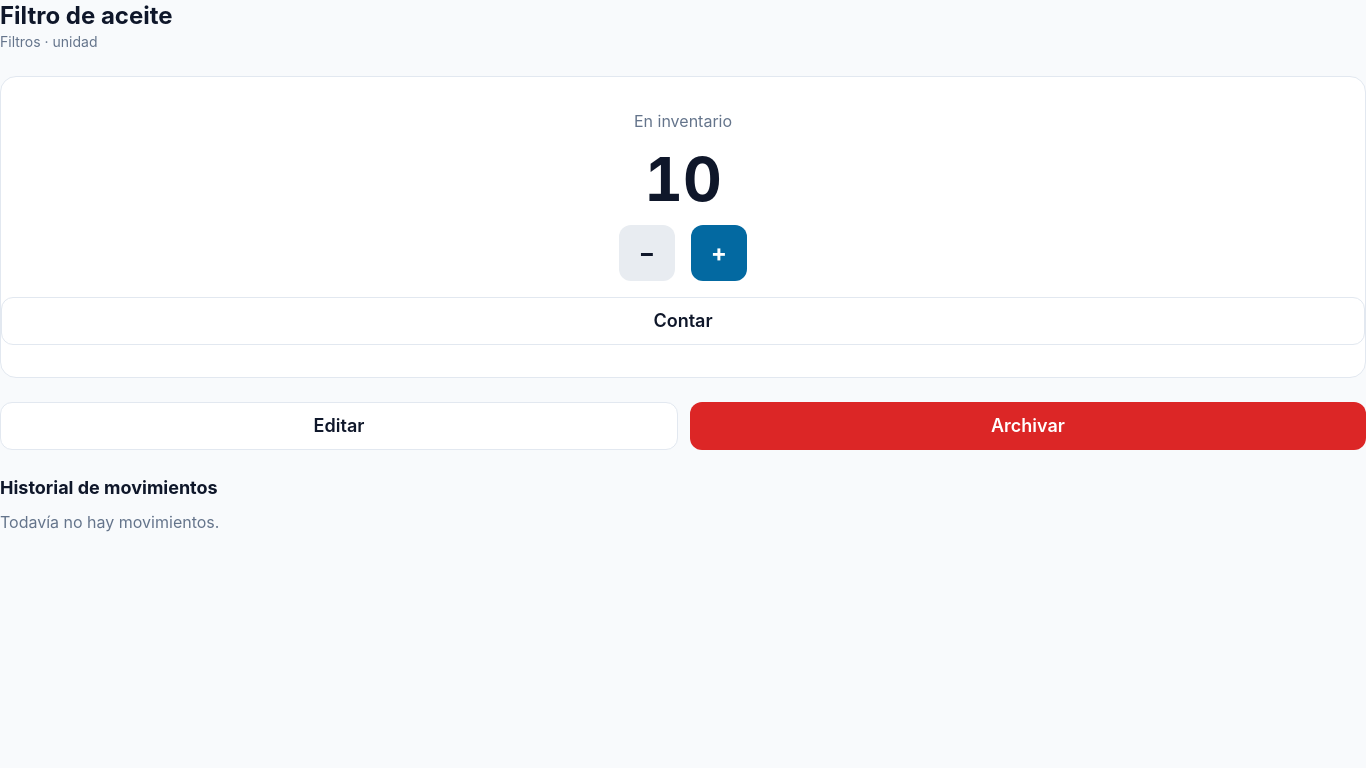
Test: ItemDetailPage › sends an adjust movement with the counted quantity from 'Contar'
The width and height of the screenshot is (1366, 768).
Expected: the text "10" is shown, [644, 149, 722, 209]
Click the button "Contar" at (683,321), box [1, 297, 1365, 345]
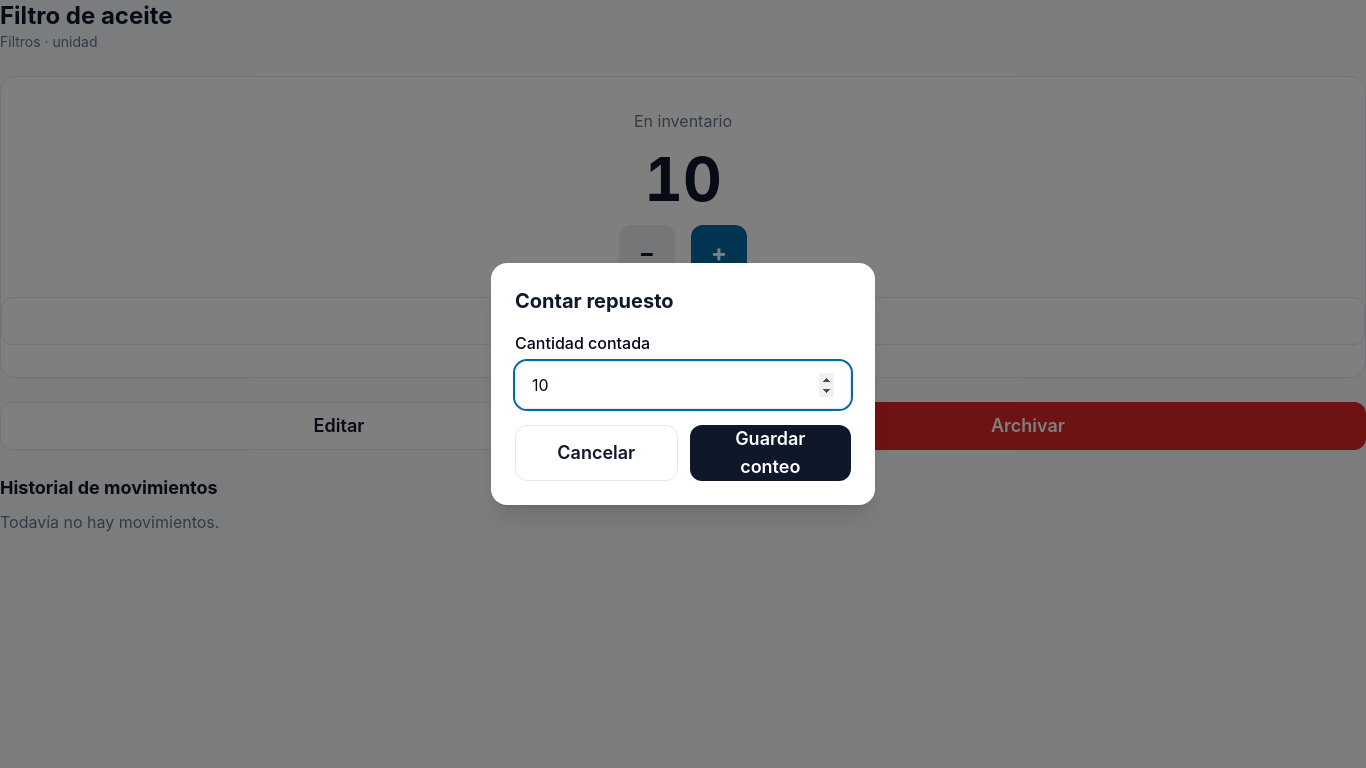
Replace the text in the number field labelled "Cantidad contada" with "7" at (683,385), box [515, 361, 851, 409]
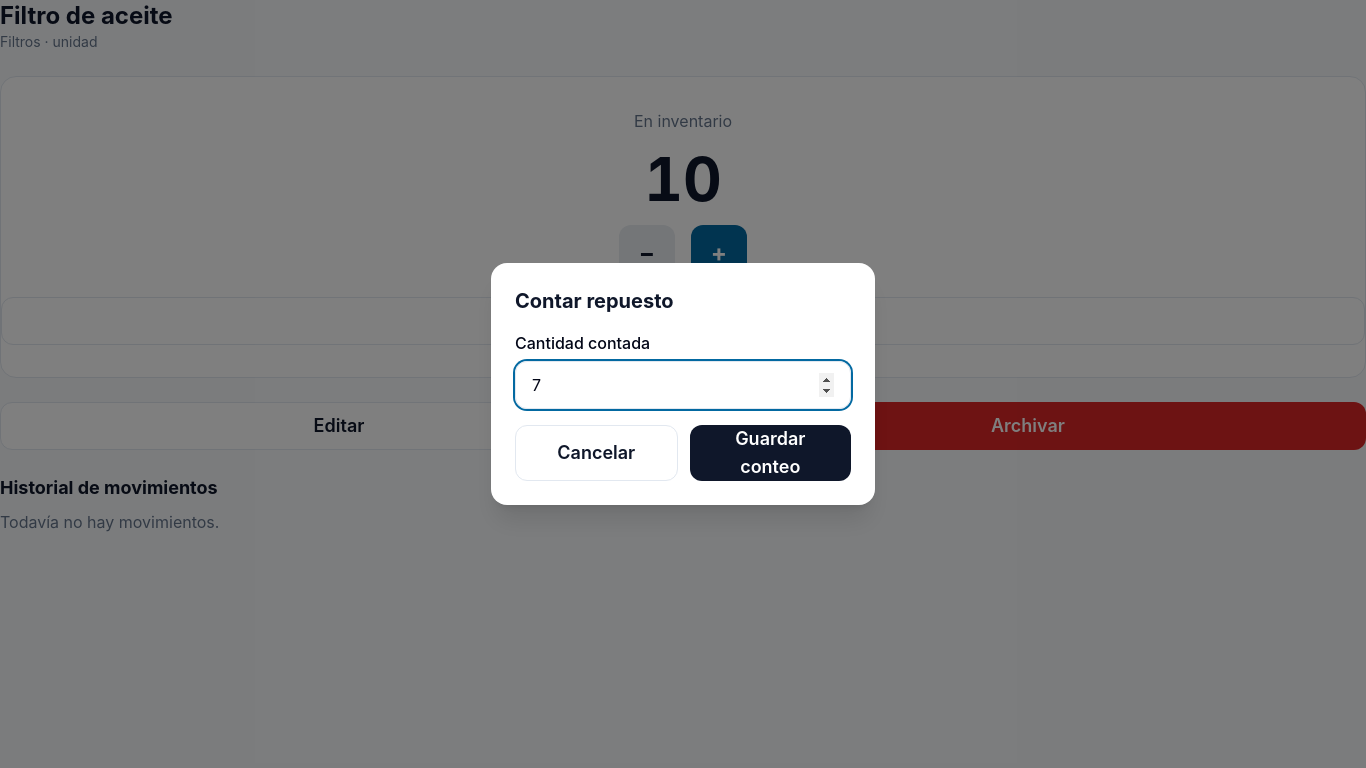
Click the button "Guardar conteo" at (770,453), box [690, 425, 851, 481]
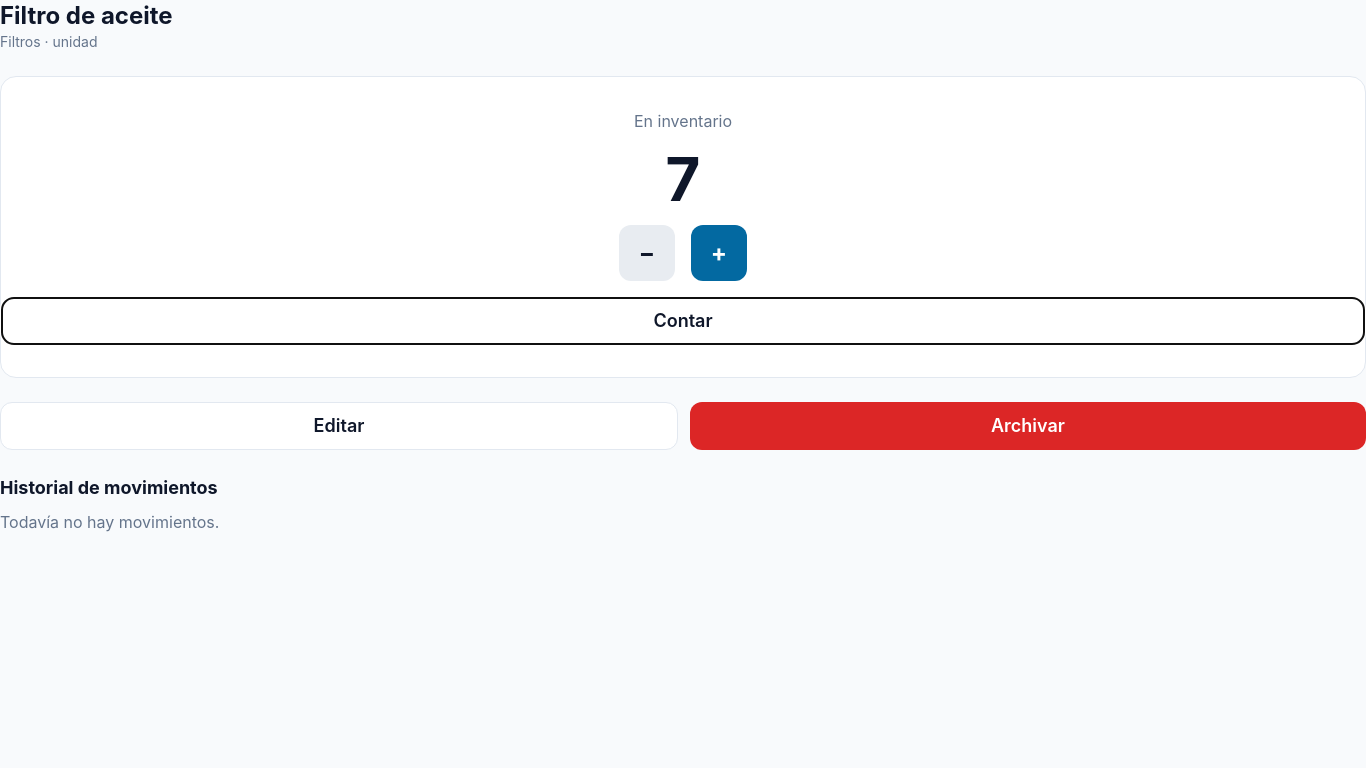
Expected: the text "7" is shown, [664, 149, 702, 209]
